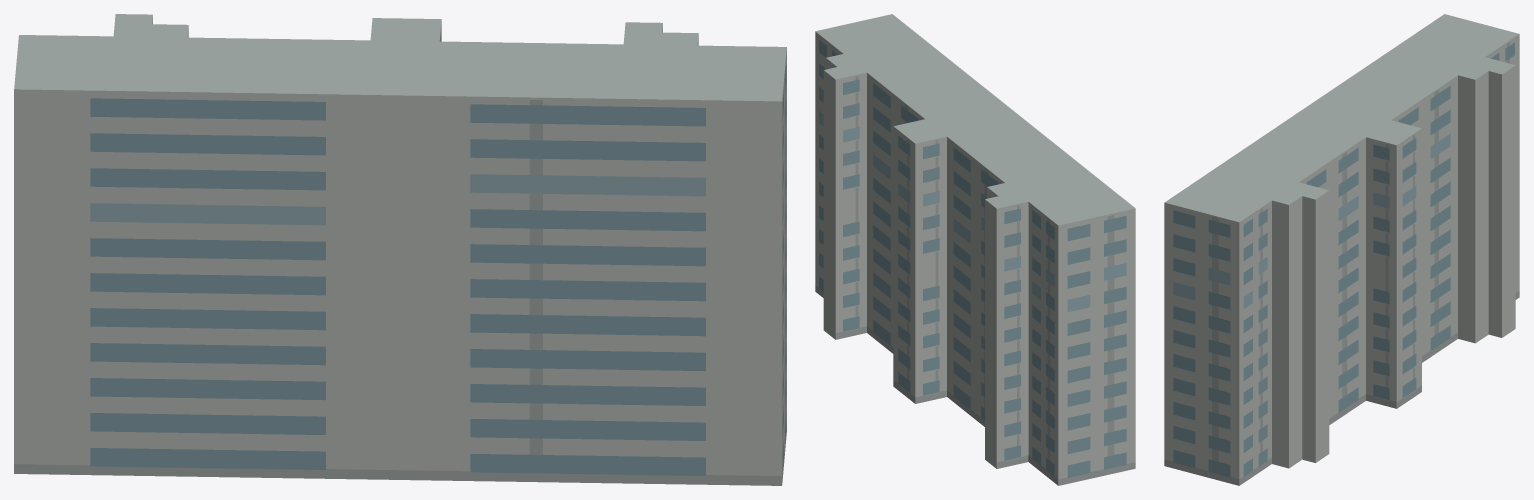
File: residential-a9cacea6-feb7-4842-a403-4da9a6e68241.glb
3 renders of one model, left to right at view 1: azimuth 30°, elevation 25°; view 2: azimuth 150°, elevation 25°; view 3: azimuth 270°, elevation 25°, orthographic. The views are drawn at different scales.
Visible parts, largest first — view 1: residential-a9cacea6-feb7-4842-a403-4da9a6e68241.tmp; view 2: residential-a9cacea6-feb7-4842-a403-4da9a6e68241.tmp; view 3: residential-a9cacea6-feb7-4842-a403-4da9a6e68241.tmp.
Boxes of the visible parts, <box> form: residential-a9cacea6-feb7-4842-a403-4da9a6e68241.tmp: <box>14,14,786,485</box>; residential-a9cacea6-feb7-4842-a403-4da9a6e68241.tmp: <box>815,14,1135,485</box>; residential-a9cacea6-feb7-4842-a403-4da9a6e68241.tmp: <box>1164,14,1519,485</box>.
Bounding box in the file's own units: 64.44 × 38 × 46.4.
